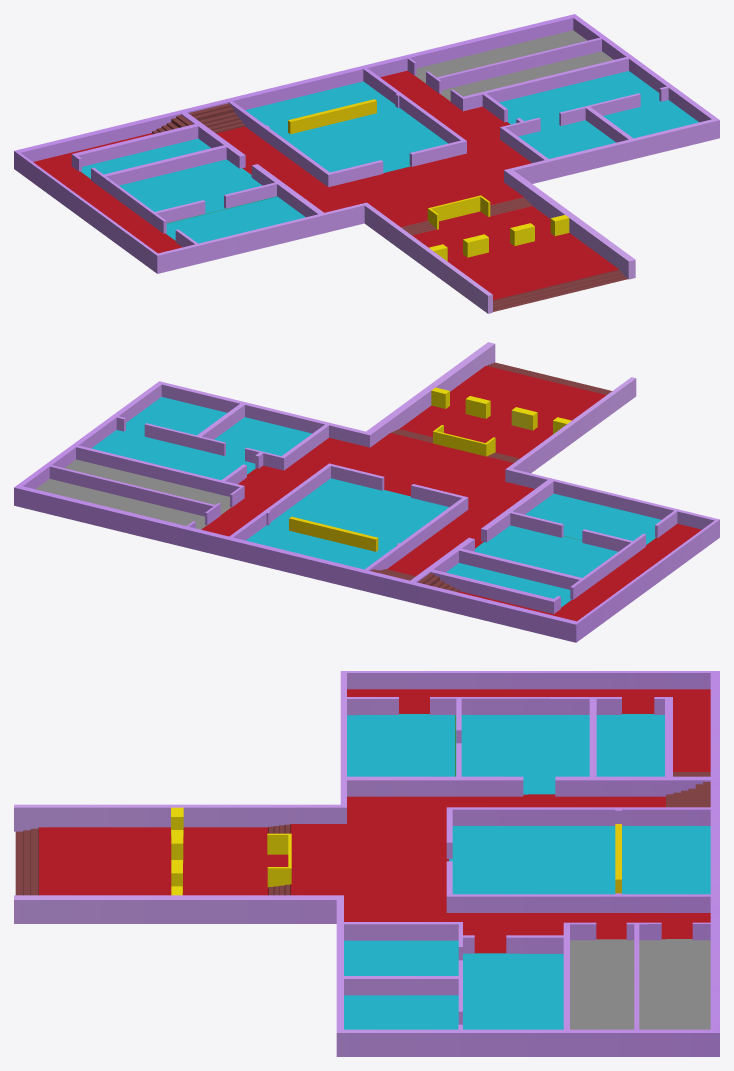
File: Escenario.fbx
The picture shows the model from 3 angles, top to bottom: view 1: azimuth 30°, elevation 25°; view 2: azimuth 150°, elevation 25°; view 3: azimuth 270°, elevation 25°; orthographic projection. The views are drawn at different scales.
Parts seen in each view (by area): view 1: Escenario; view 2: Escenario; view 3: Escenario.
Boxes of the visible parts, bbox=[...] form: Escenario: bbox=[14, 14, 719, 313]; Escenario: bbox=[14, 342, 719, 642]; Escenario: bbox=[14, 671, 719, 1056].
Bounding box in the file's own units: 11019 × 439 × 9085.
